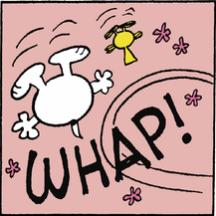snoopy: (10, 46, 114, 140)
